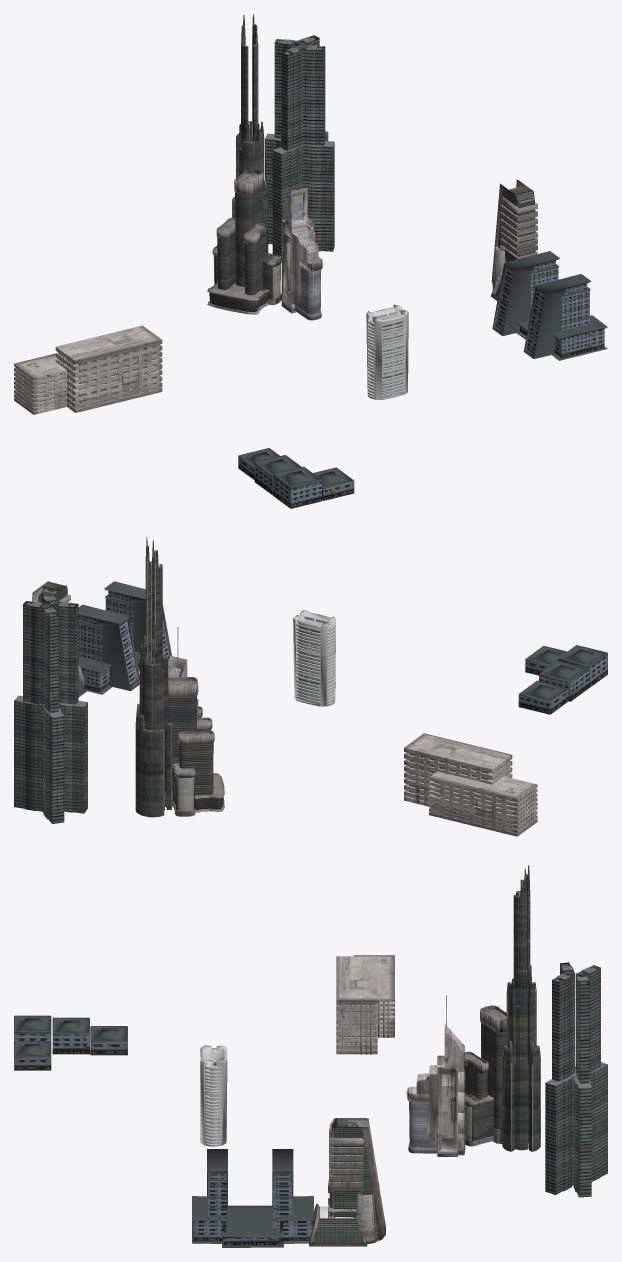
The model's file is The City.obj.
3 renders of one model, top to bottom at view 1: azimuth 30°, elevation 25°; view 2: azimuth 150°, elevation 25°; view 3: azimuth 270°, elevation 25°, orthographic. The views are drawn at different scales.
Parts seen in each view (by area): view 1: bldgs2; view 2: bldgs2; view 3: bldgs2.
Boxes of the visible parts, left/top/right/bottom form: bldgs2: left=14, top=14, right=607, bottom=508; bldgs2: left=14, top=537, right=607, bottom=836; bldgs2: left=14, top=865, right=607, bottom=1247.
Bounding box in the file's own units: 166 × 84.29 × 163.
